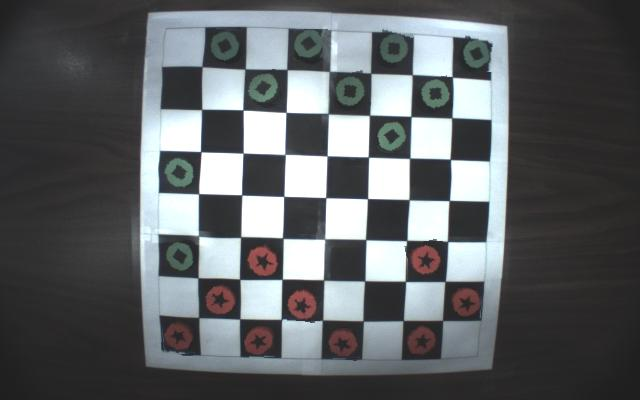G: (334, 72, 370, 110), (377, 28, 412, 66), (160, 155, 197, 189), (417, 77, 452, 112), (247, 71, 282, 106), (462, 36, 495, 72), (162, 238, 195, 274), (210, 27, 242, 62), (294, 29, 328, 60), (377, 121, 409, 153)
R: (283, 284, 321, 322), (406, 241, 443, 280), (201, 283, 236, 318), (161, 321, 196, 356), (323, 328, 360, 360), (244, 325, 278, 359), (244, 244, 278, 277), (407, 324, 439, 359), (451, 285, 483, 318)
